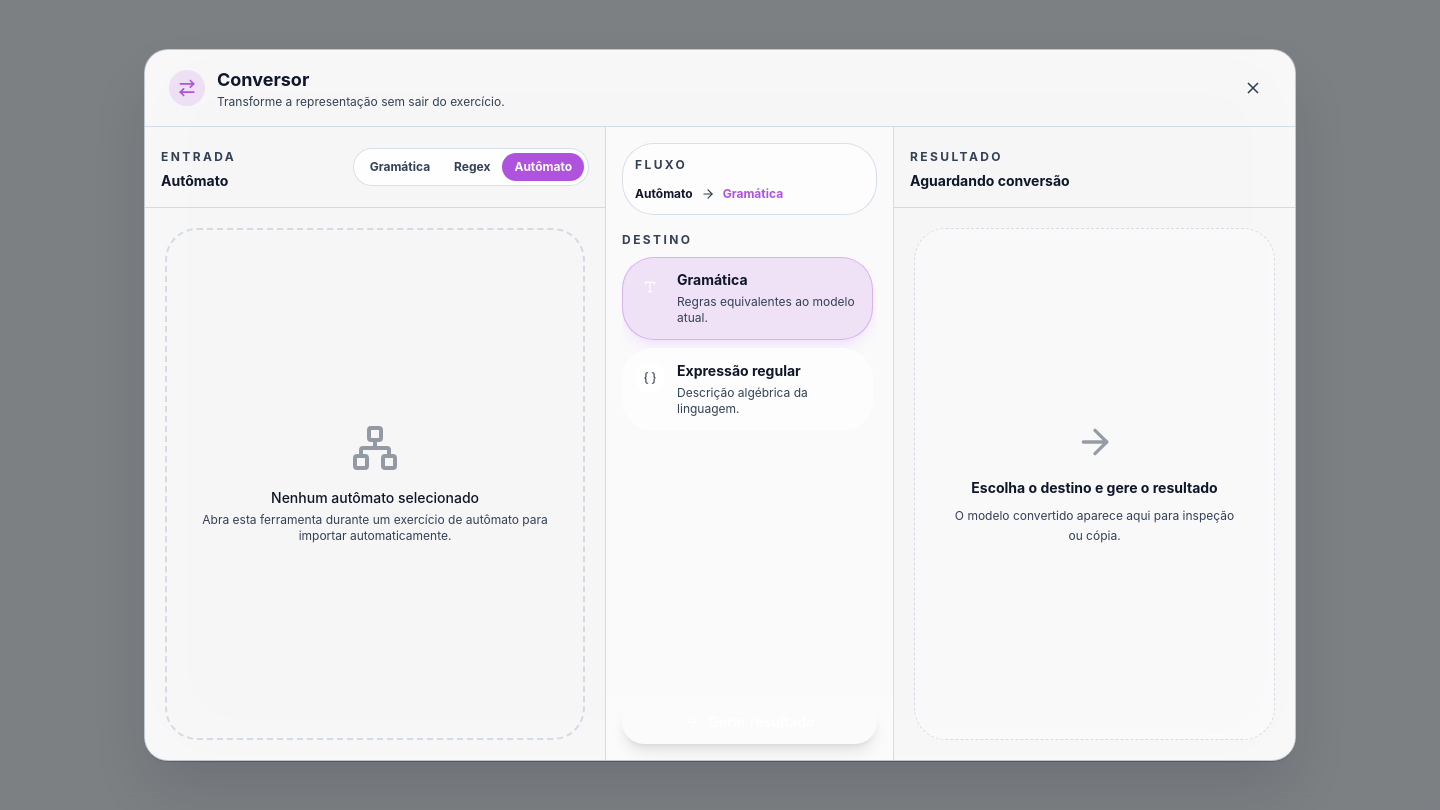
Test case: ConversionTool › switches tabs
Step 1. Click the button "Regex" → (472, 167), box [442, 153, 502, 181]
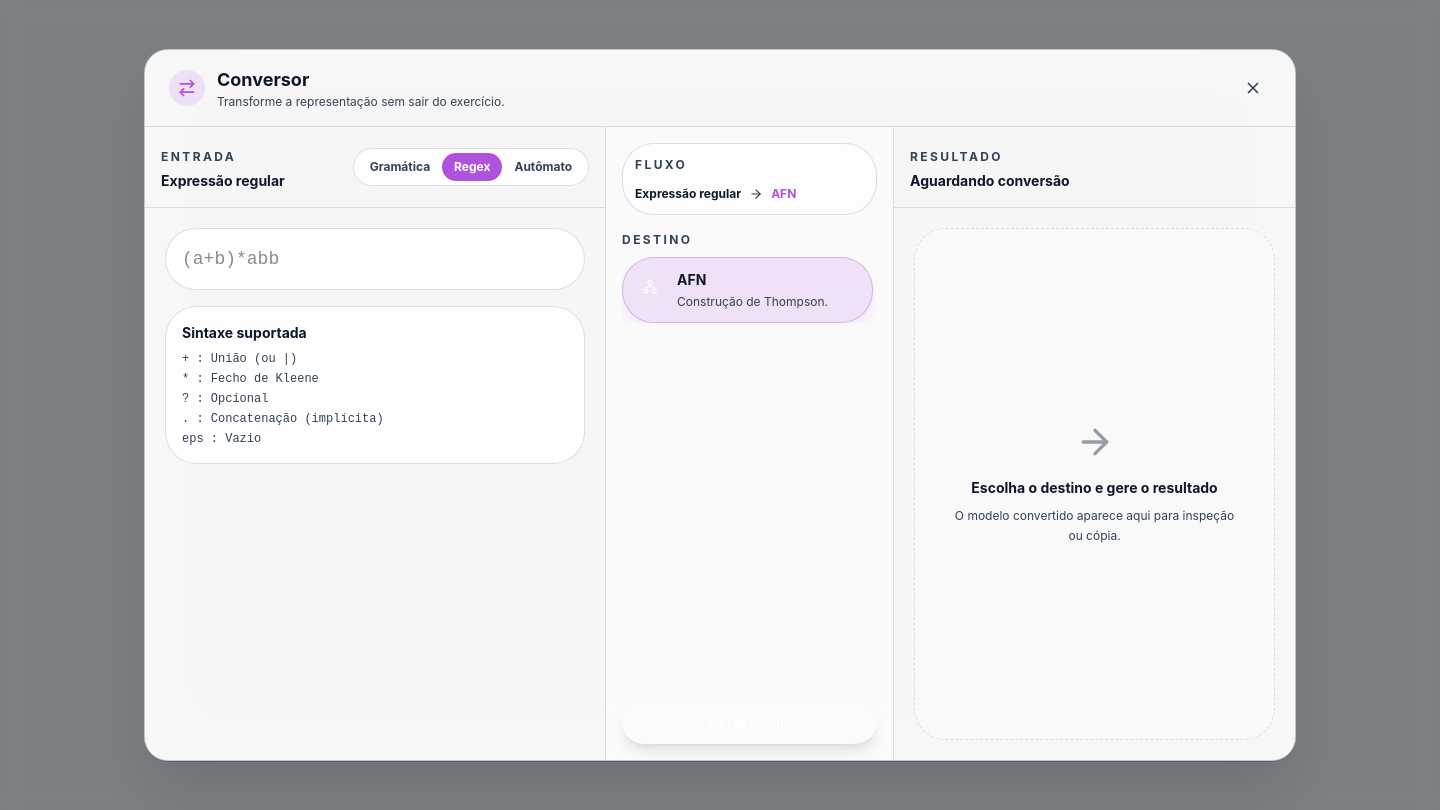
Expected: the field with placeholder "(a+b)*abb" is shown, [165, 228, 585, 290]
Step 2. Click the button "Gramática" → (400, 167), box [358, 153, 442, 181]
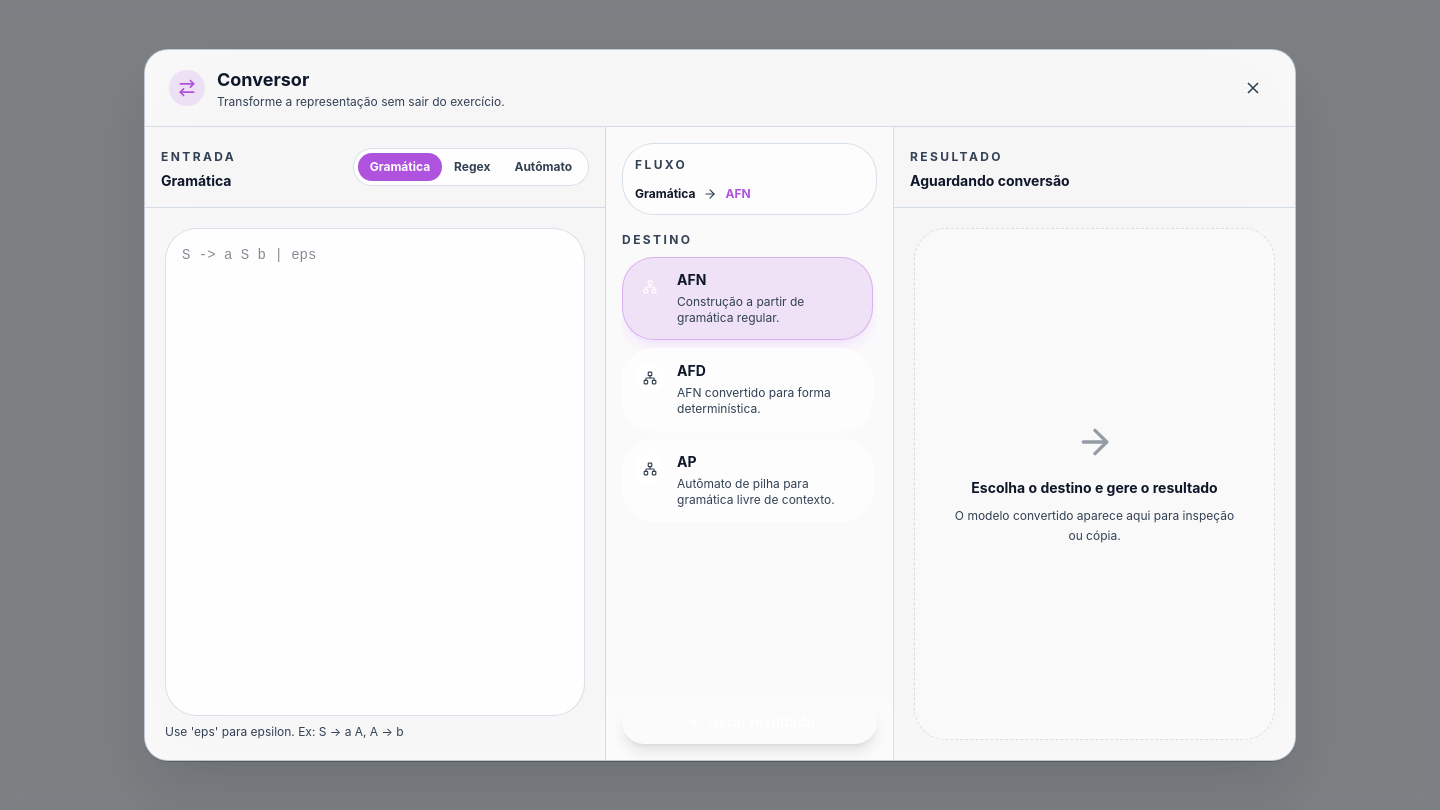
Expected: the text box with placeholder "S -> a S b | eps" is shown, [165, 228, 585, 716]
